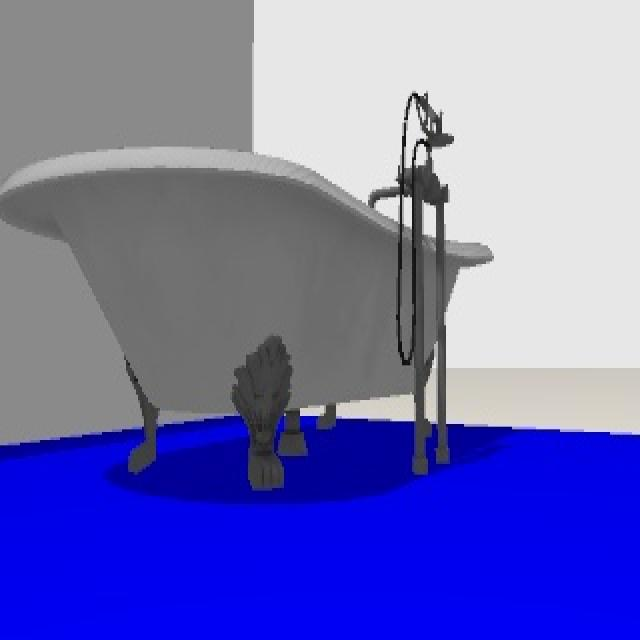bathtub: (2, 89, 494, 492)
